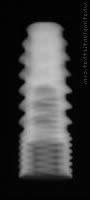Sterngold: (19, 21, 73, 179)
